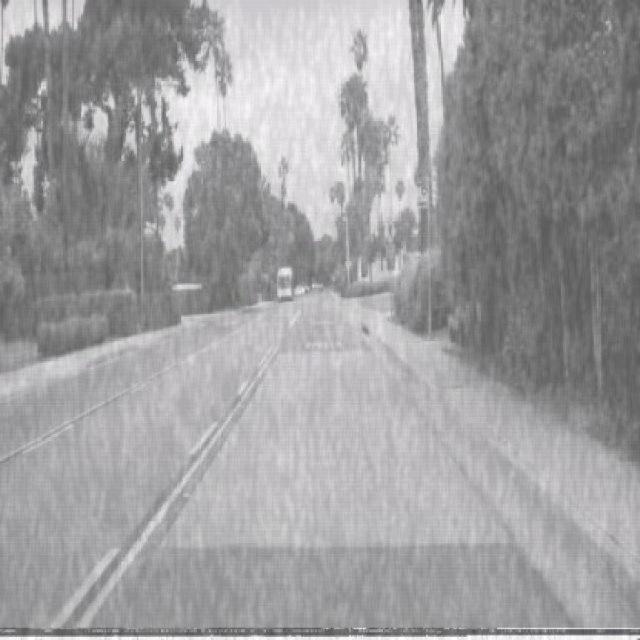pedestrianCrossing: (383, 217, 397, 244)
